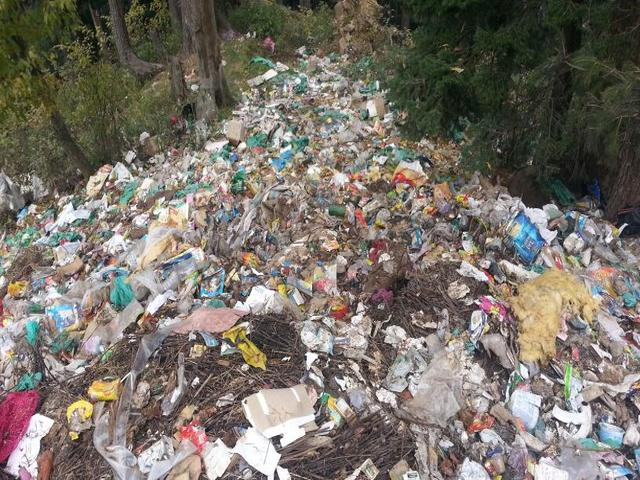garbage: (42, 204, 625, 460), (265, 66, 384, 201)
